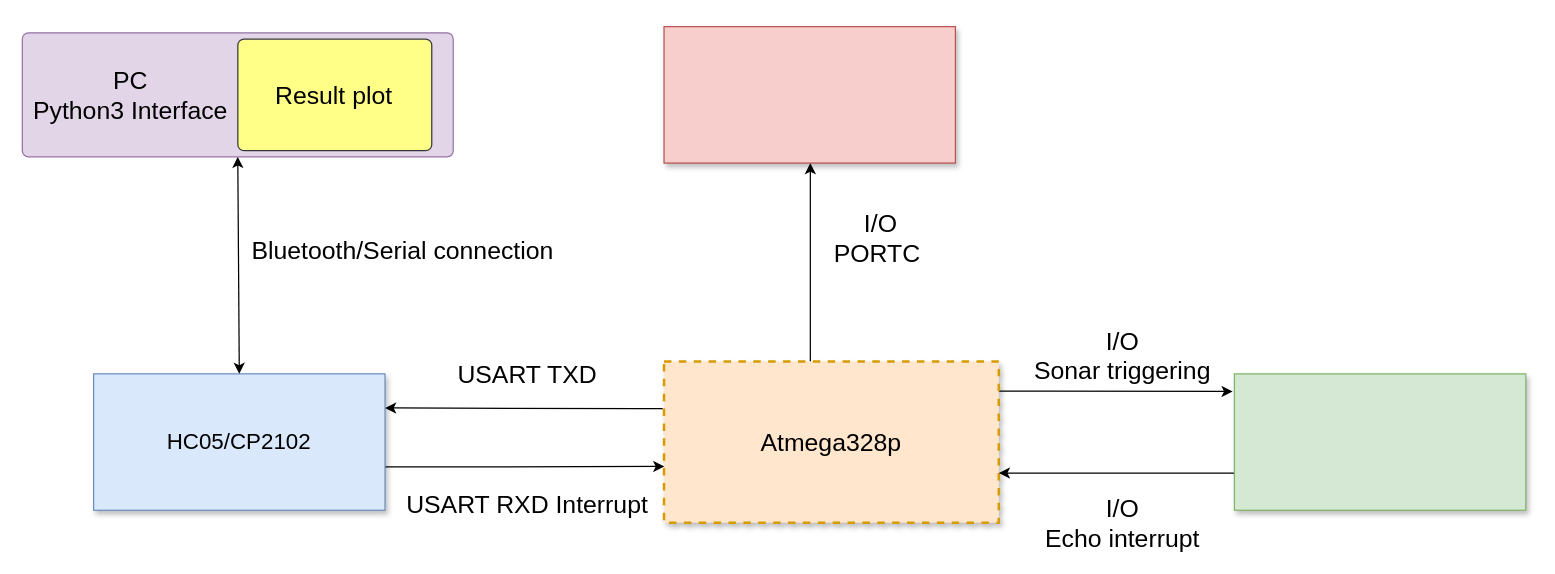
Some shapes in this 1555 by 574 pixel diagram are drawn without their labels. Each missing label, with the centre of its shape:
Motor: point (810, 96)
Sonar HC-SR04: point (1380, 443)
